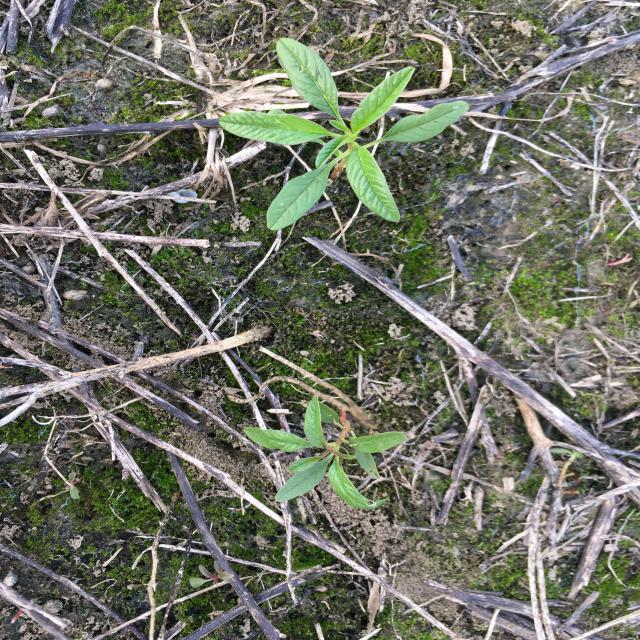Waterhemp: (217, 36, 471, 233), (240, 394, 410, 512)
